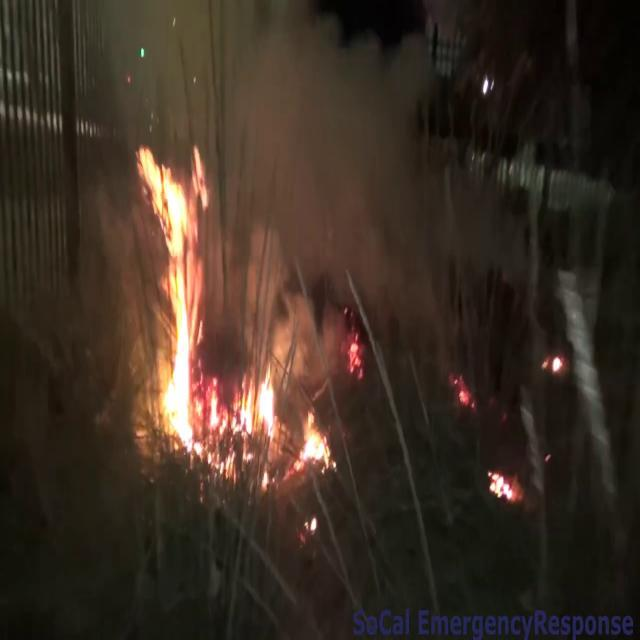Fire: (135, 113, 221, 460), (208, 358, 340, 494)
Smoke: (194, 0, 503, 338)
